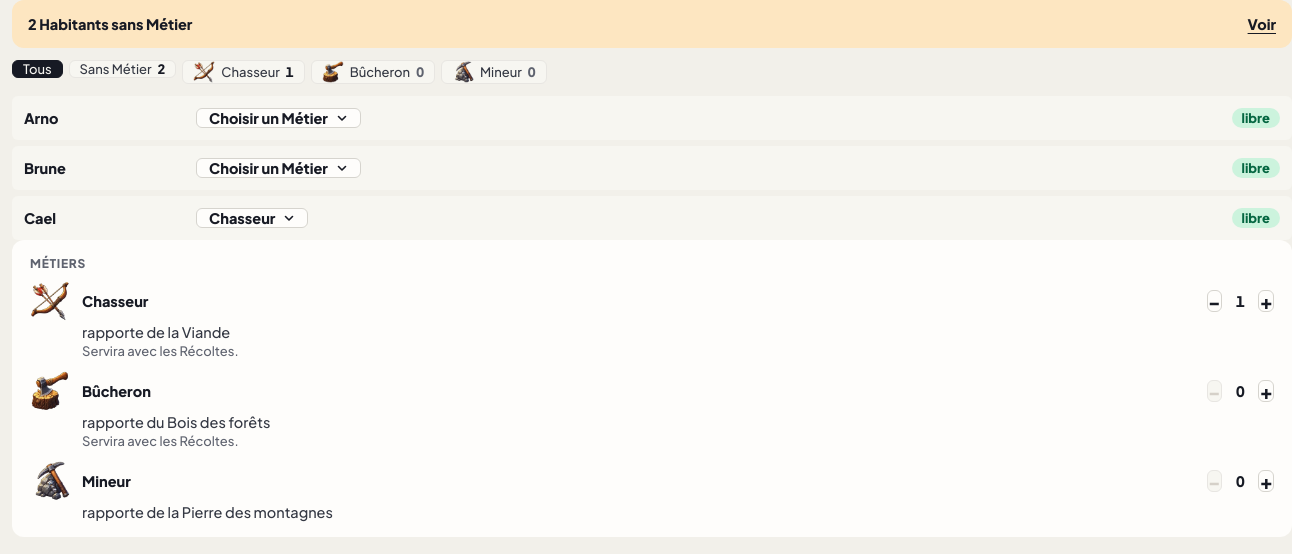
Test case: répartir les Habitants avec plus et moins, dans le bloc Métiers (US-0312) › « + » donne aussitôt le Métier au premier Habitant sans Métier de la liste : l'effectif, les compteurs, la liste et le bandeau suivent
Click the 2nd button "+": click(1266, 391) [1258,380,1274,402]
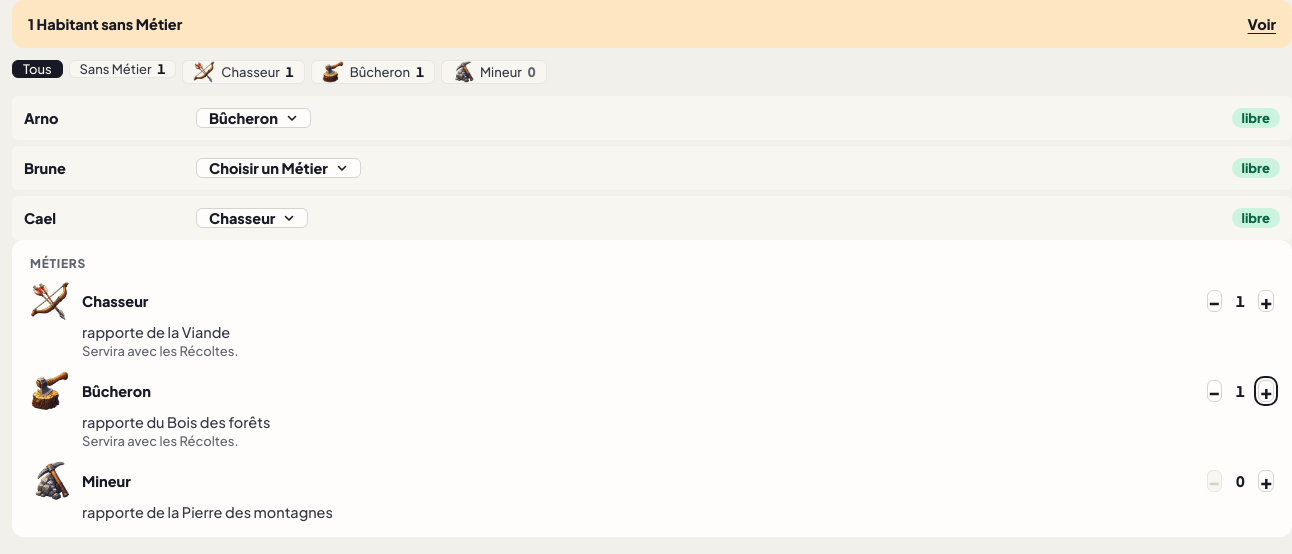
Now the button "Sans Métier 1" is shown, box [69,60,176,78]
Now the text "1 Habitant sans Métier" is shown, box [28,15,182,33]
